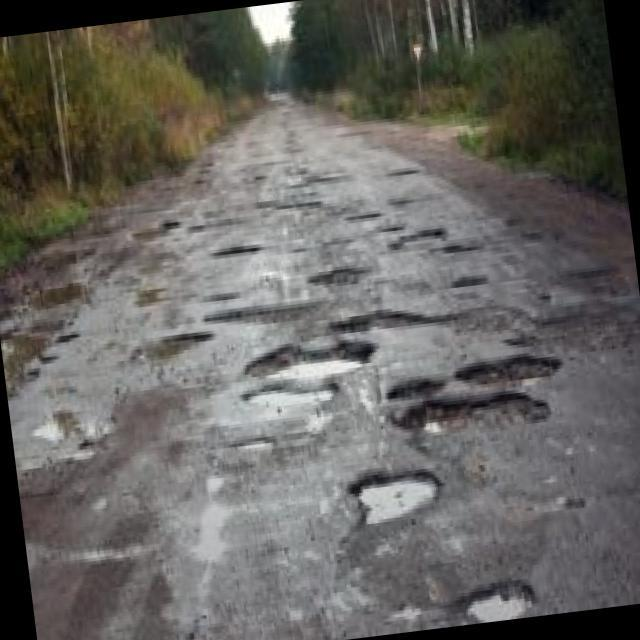Pothole: (394, 384, 574, 459), (319, 284, 474, 352), (334, 442, 453, 526), (442, 554, 576, 626), (256, 327, 410, 389), (520, 279, 630, 354), (188, 208, 296, 282), (33, 416, 165, 474), (442, 336, 565, 389), (546, 240, 640, 306), (119, 319, 225, 374), (200, 292, 342, 333), (0, 322, 70, 401), (241, 169, 326, 217), (238, 364, 342, 402), (381, 362, 459, 406), (308, 256, 387, 296), (438, 262, 510, 305), (12, 284, 101, 314), (25, 241, 101, 275), (125, 206, 194, 242), (293, 166, 373, 188), (428, 228, 480, 255), (387, 226, 452, 246), (32, 352, 66, 386), (336, 203, 394, 221), (383, 158, 445, 174)
